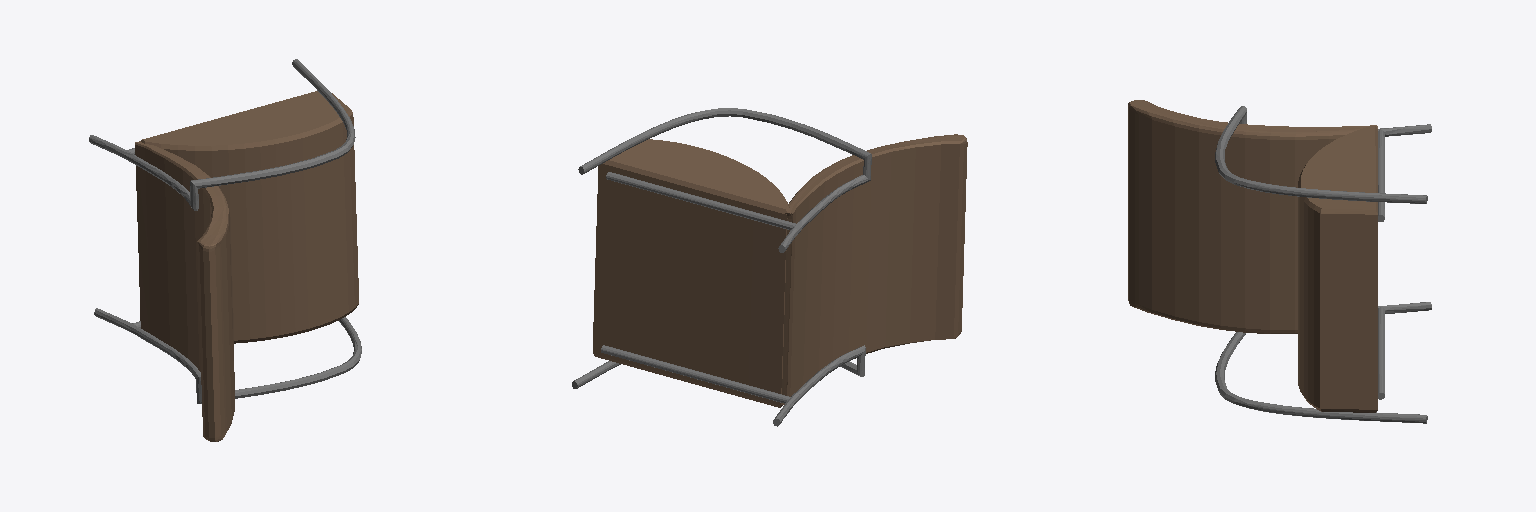
File: chair.obj
3 renders of one model, left to right at view 1: azimuth 30°, elevation 25°; view 2: azimuth 150°, elevation 25°; view 3: azimuth 270°, elevation 25°, orthographic.
Parts seen in each view (by area): view 1: chair00021; view 2: chair00021; view 3: chair00021.
Boxes of the visible parts, box(x1,y1,x2,y2) form: chair00021: box(89, 59, 361, 441); chair00021: box(572, 108, 967, 426); chair00021: box(1128, 100, 1431, 423).
Size of the model in its own units: 2.47 by 2.16 by 2.58.